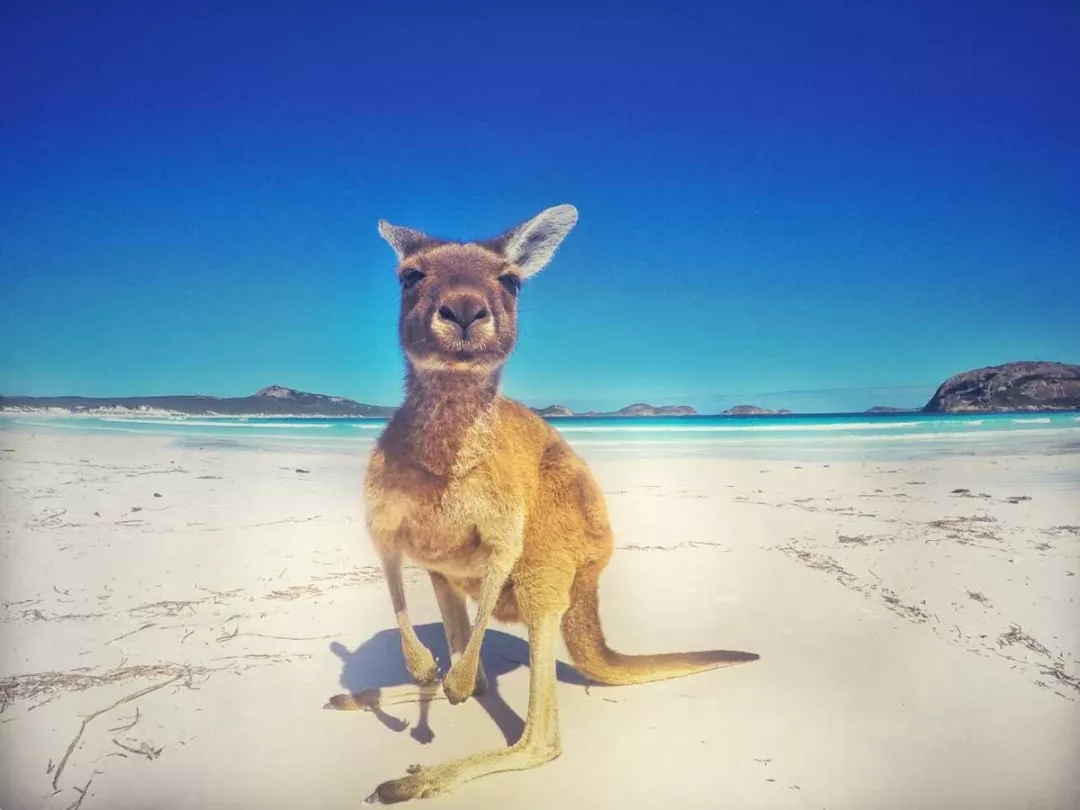kangaroo: (317, 196, 773, 807)
